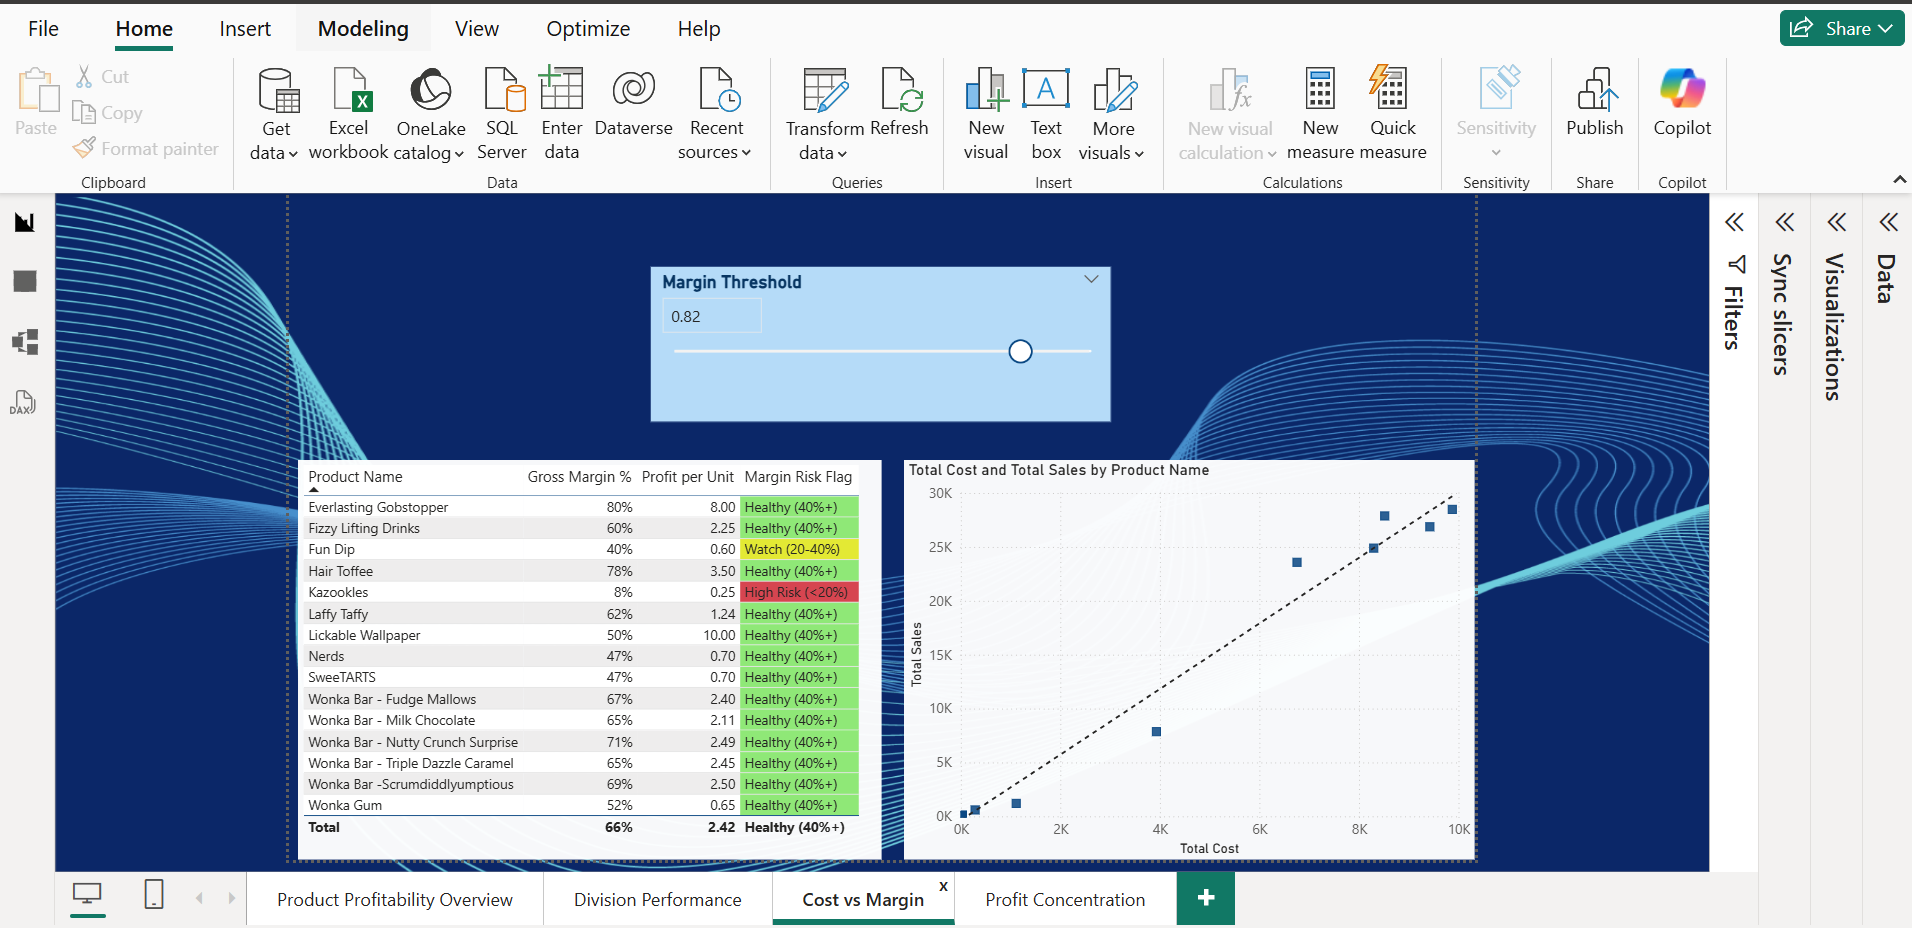

This screenshot's page, from the dashboard's own definition file:
{"tool":"powerbi","page":{"name":"Cost vs Margin","canvas":[1280,720],"ordinal":2},"visuals":[{"type":"scatterChart","fields":{"Category":["Dim_Product.Product Name"],"X":["_Measures.Total Cost"],"Y":["_Measures.Total Sales"]},"box":[664.4,288.9,616.3,431.4],"z":0},{"type":"tableEx","fields":{"Values":["Dim_Product.Product Name","_Measures.Gross Margin %","_Measures.Profit per Unit","_Measures.Margin Risk Flag"]},"box":[9.6,288.9,629.7,431.4],"z":1000},{"type":"slicer","fields":{"Values":["Margin Threshold.Margin Threshold"]},"box":[390.9,79,496.9,167.5],"z":2000}]}

Visuals, with their boxes on the page's 1280x720 design canvas (x1, y1, x2, y2). These are canvas units, not pixel positions in the 1912x928 screenshot, which may show the page scaled, cropped or inside an application window:
scatterChart - Dim_Product.Product Name x _Measures.Total Cost: region(664, 289, 1281, 720)
tableEx - Dim_Product.Product Name x _Measures.Gross Margin %: region(10, 289, 639, 720)
slicer - Margin Threshold.Margin Threshold: region(391, 79, 888, 246)
